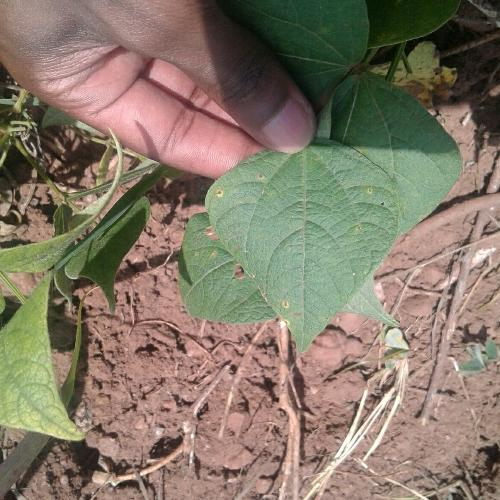mozaik: (274, 178, 340, 266)
